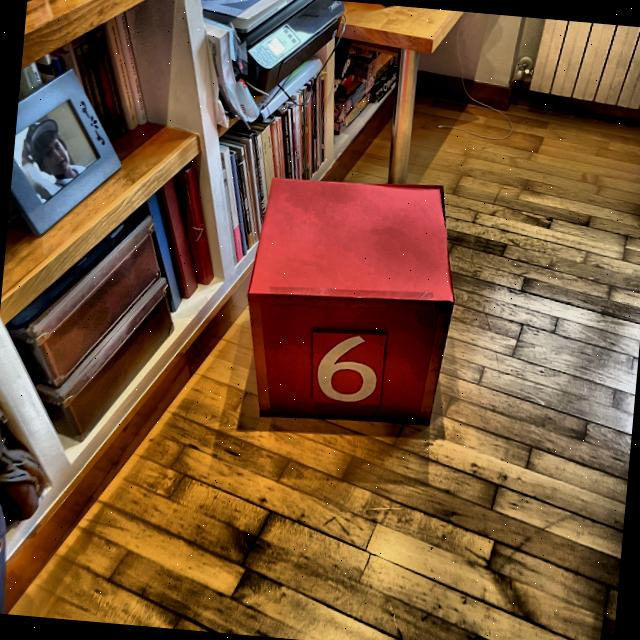red box: (238, 172, 462, 434)
six: (314, 330, 381, 404)
